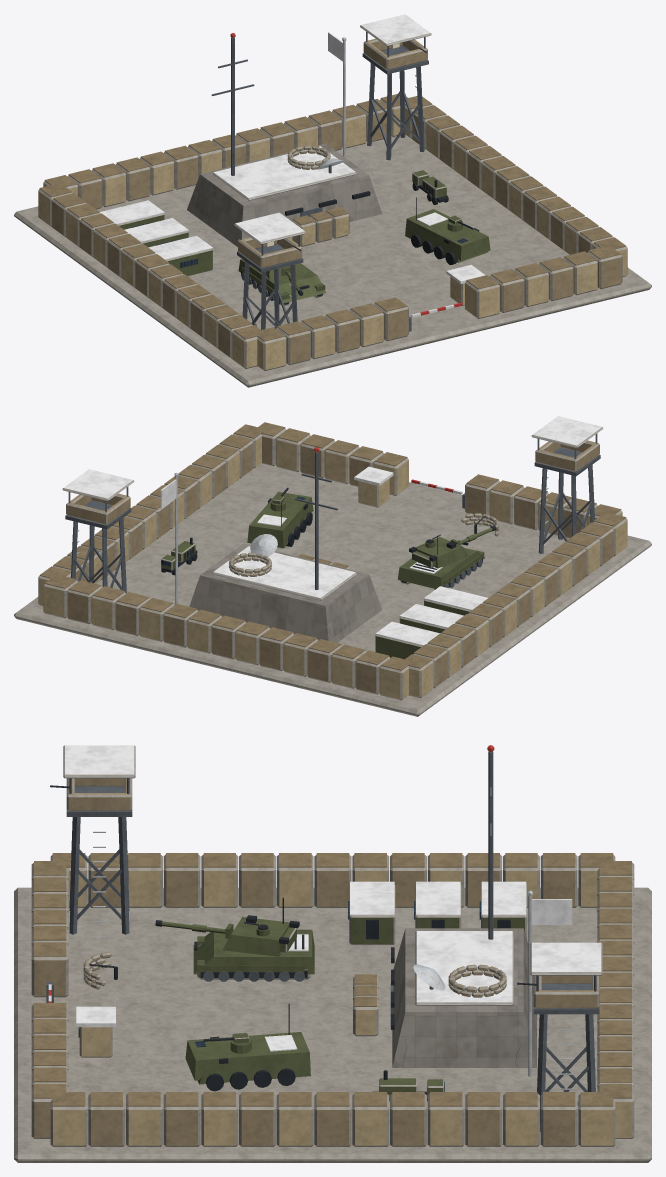
Rendered from defense_post.gltf.
3 views of the same model, one above another, from view 1: azimuth 30°, elevation 25°; view 2: azimuth 150°, elevation 25°; view 3: azimuth 270°, elevation 25° (orthographic). The views are drawn at different scales.
Parts seen in each view (by area): view 1: DefensePost; view 2: DefensePost; view 3: DefensePost.
Part boxes in pixels (x1=…): DefensePost: x1=14, y1=14, x2=651, y2=387; DefensePost: x1=14, y1=416, x2=651, y2=716; DefensePost: x1=14, y1=745, x2=651, y2=1162.
Bounding box in the file's own units: 0.97 × 0.431 × 0.97.
14 materials, 11 textured.
